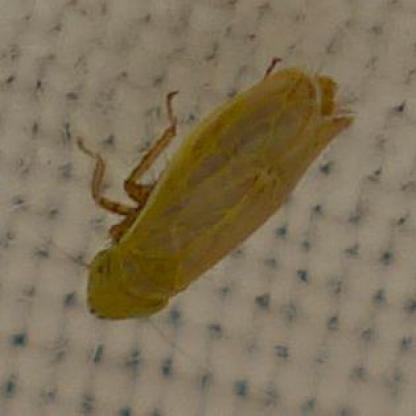green-leafhopper: (81, 56, 349, 325)
